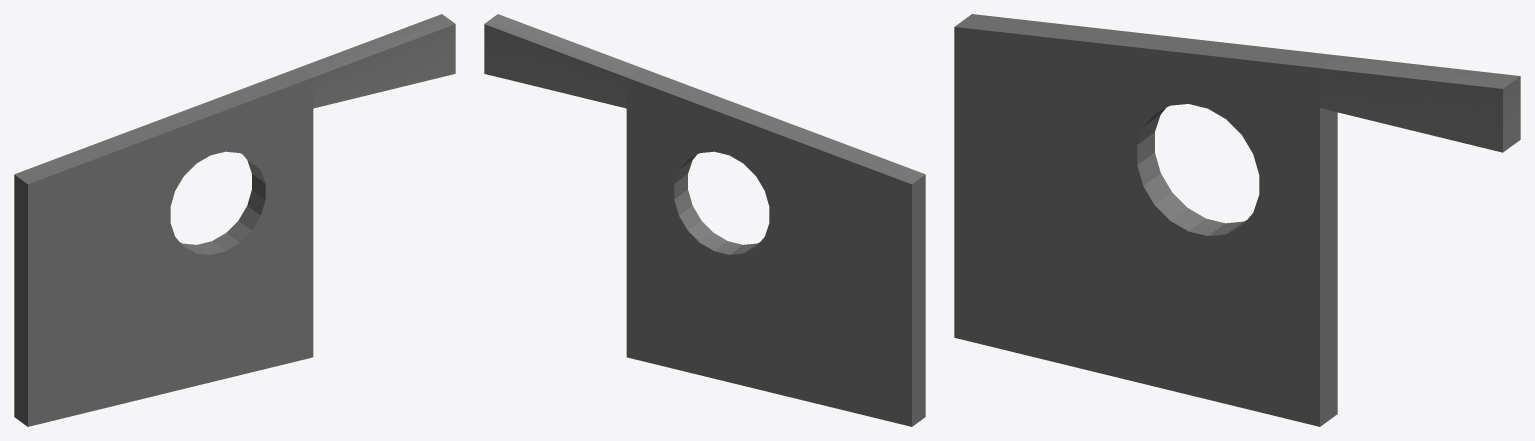
The model's file is dc_metro_roof_k3.obj.
The picture shows the model from 3 angles, left to right: view 1: azimuth 30°, elevation 25°; view 2: azimuth 150°, elevation 25°; view 3: azimuth 330°, elevation 25°; orthographic projection. The views are drawn at different scales.
Parts seen in each view (by area): view 1: mesh, cube; view 2: mesh, cube; view 3: mesh, cube.
Part boxes in pixels (box(x1,y1,x2,y2)): mesh: box(14, 67, 313, 426); cube: box(300, 14, 455, 108); mesh: box(626, 67, 925, 426); cube: box(484, 14, 639, 108); mesh: box(954, 14, 1337, 426); cube: box(1320, 55, 1520, 152).
Bounding box in the file's own units: 9 × 6 × 0.5.
Materials: 1 (1 with a texture image).
